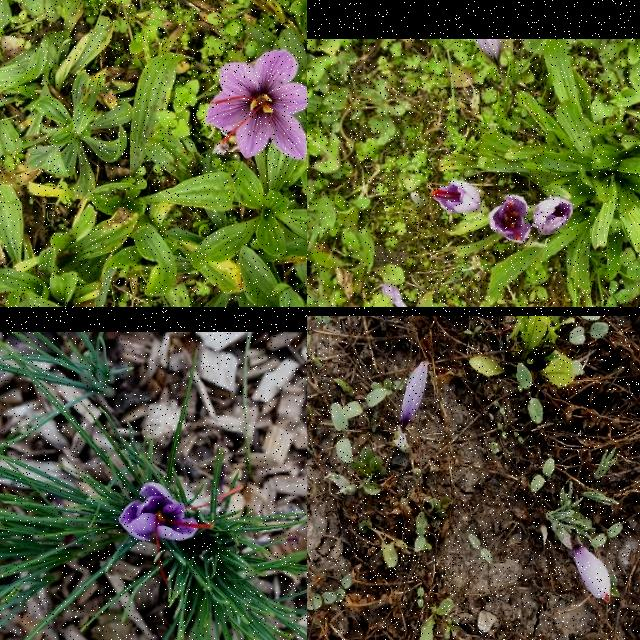flower: (118, 482, 244, 588), (205, 48, 307, 163), (572, 542, 612, 602), (490, 196, 532, 244), (428, 180, 482, 216), (402, 360, 428, 430), (532, 197, 572, 237)
